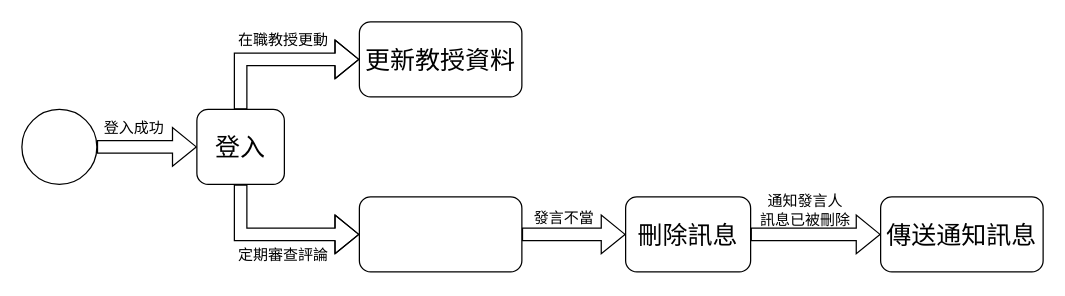
The diagram is 1065 pixels wide and 296 high, and some of its shapes have lost their labels. The centre of each missing label's shape, as x and y in pixels:
"評論審查" goes at (440,234).
"起點" goes at (59,146).
